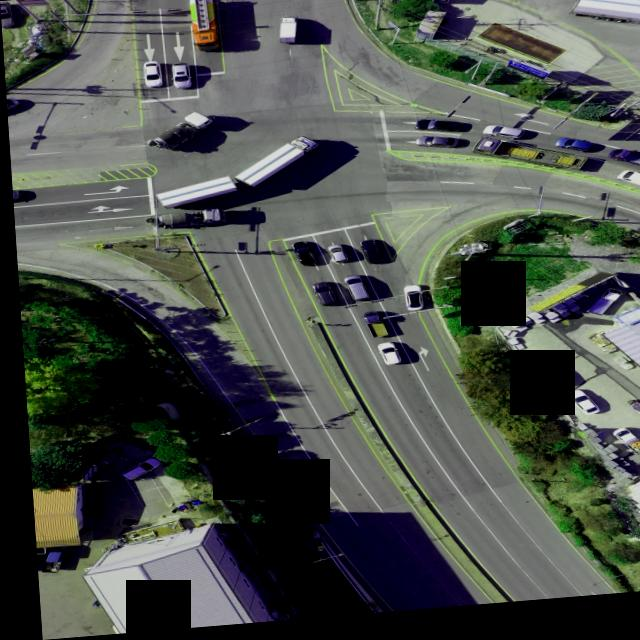car: (114, 457, 155, 480), (559, 397, 594, 423), (416, 123, 467, 140), (482, 130, 524, 148), (340, 280, 366, 307), (358, 242, 383, 270), (413, 141, 458, 156), (398, 288, 422, 316), (534, 371, 562, 395), (615, 176, 640, 202), (310, 285, 334, 311), (552, 144, 590, 160), (290, 246, 314, 271), (372, 347, 395, 370), (142, 64, 162, 90), (172, 65, 192, 91), (325, 247, 345, 269), (0, 1, 15, 26), (5, 98, 19, 110), (10, 187, 20, 198)
large_truck: (152, 139, 320, 210)
medium_truck: (470, 136, 594, 183), (572, 0, 640, 39), (143, 115, 210, 151), (191, 0, 220, 52), (153, 208, 222, 228)
small_truck: (581, 296, 620, 324), (606, 436, 640, 465), (605, 154, 640, 176), (358, 316, 385, 344), (30, 549, 58, 574), (278, 21, 300, 48)
